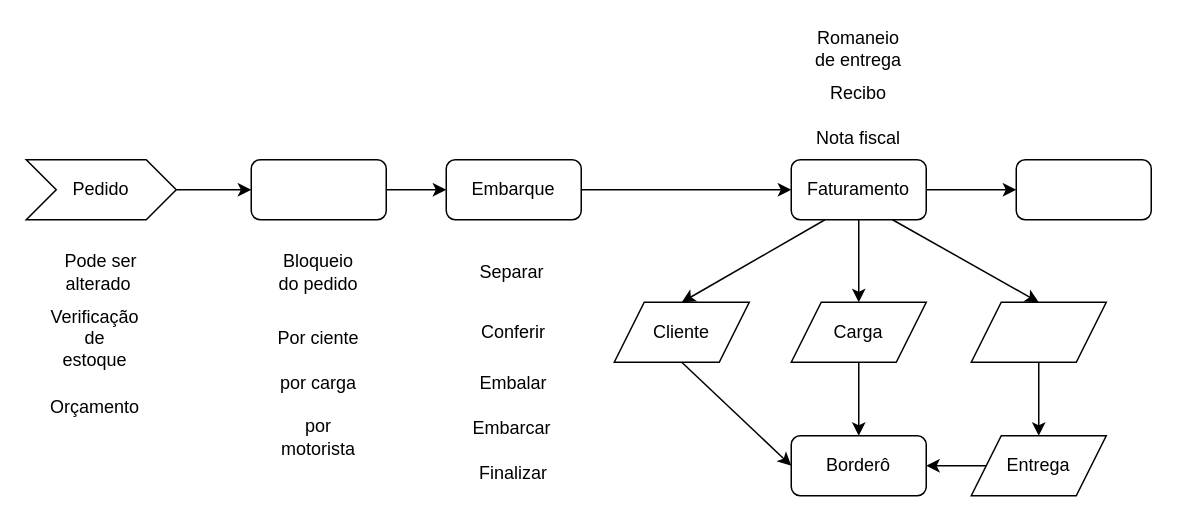
Some shapes in this 1178 by 522 pixel diagram are drawn without their labels. The centre of each missing label's shape, as x and y in pixels:
"Autorização" goes at (1083,189).
"Motorista" goes at (1038,331).
"Romaneio" goes at (318,189).
